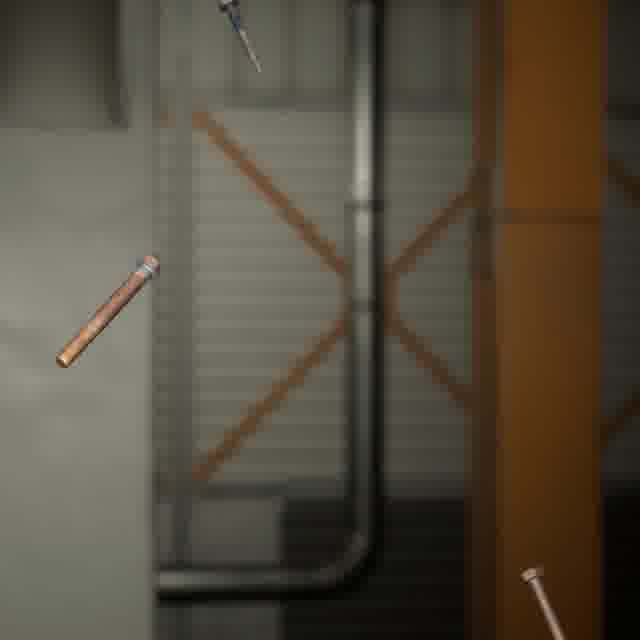bolt: (50, 250, 166, 372), (213, 0, 268, 83), (515, 561, 571, 640)
